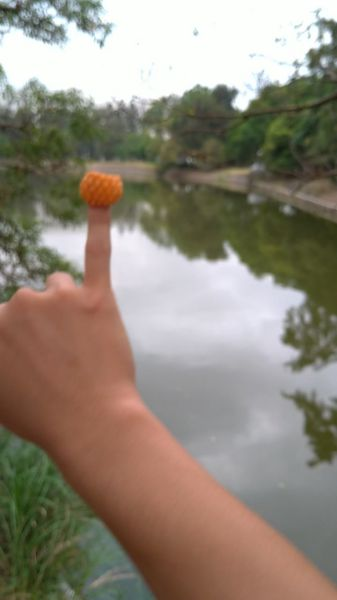eggs: (78, 171, 125, 206)
